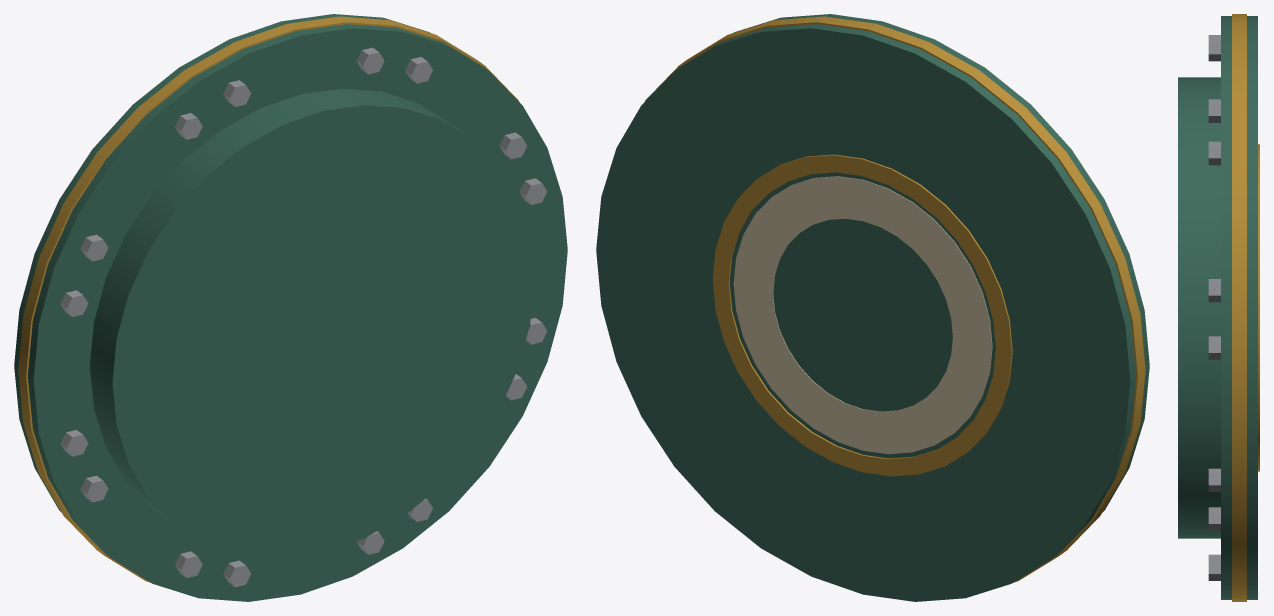
The model's file is hangar2_flange.obj.
The picture shows the model from 3 angles, left to right: view 1: azimuth 30°, elevation 25°; view 2: azimuth 150°, elevation 25°; view 3: azimuth 270°, elevation 25°; orthographic projection. The views are drawn at different scales.
Parts seen in each view (by area): view 1: hangar2_flange; view 2: hangar2_flange; view 3: hangar2_flange.
Part boxes in pixels (left/top/right/bottom): hangar2_flange: left=14, top=14, right=567, bottom=601; hangar2_flange: left=596, top=14, right=1149, bottom=601; hangar2_flange: left=1178, top=14, right=1259, bottom=601.
Size of the model in its own units: 1.91 by 1.91 by 0.2655.
